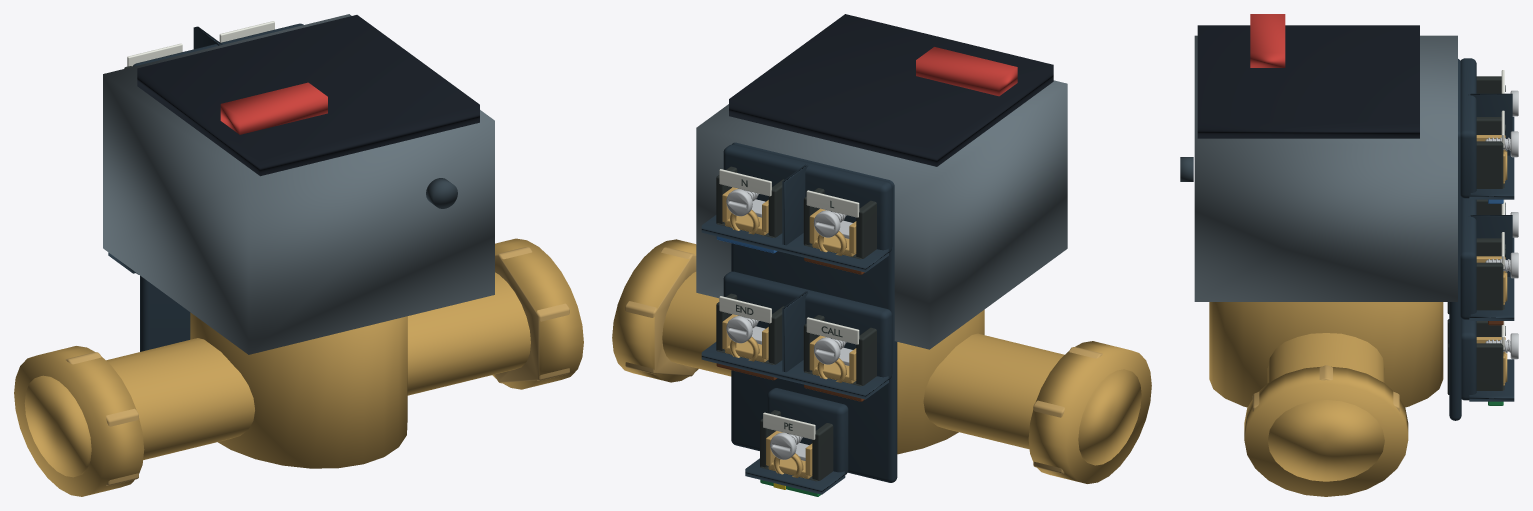
Rendered from valve_two-port.glb.
3 views of the same model, side by side, from view 1: azimuth 30°, elevation 25°; view 2: azimuth 150°, elevation 25°; view 3: azimuth 270°, elevation 25° (orthographic). The views are drawn at different scales.
Visible parts, largest first — view 1: part:actuator, part:body · Original df732090, part:terminals · Original a463fd81, motion:valve-pointer, detail:valve-end-switch · Detail machined brass, part:body.001; view 2: part:actuator, part:body · Original df732090, part:terminals · Original a463fd81, motion:valve-pointer, detail:valve-end-switch · Detail machined brass, detail:terminal-clamp:L · Detail moulded engineering polymer, detail:terminal-clamp:PE · Detail moulded engineering polyme, detail:terminal-clamp:CALL · Detail moulded engineering poly, detail:terminal-clamp:N · Detail moulded engineering polymer, detail:terminal-clamp:END · Detail moulded engineering polym, detail:terminal-clamp:CALL · Detail machined brass, detail:terminal-clamp:L · Detail machined brass (+13 smaller); view 3: part:actuator, part:body · Original df732090, part:terminals · Original a463fd81, motion:valve-pointer, detail:terminal-clamp:PE · Detail moulded engineering polyme, detail:terminal-clamp:END · Detail moulded engineering polym, detail:terminal-clamp:N · Detail moulded engineering polymer, detail:terminal-clamp:L · Detail moulded engineering polymer, detail:valve-end-switch · Detail machined brass, detail:terminal-clamp:N · Detail zinc plated fixing, detail:terminal-clamp:PE · Detail zinc plated fixing.
Part boxes in pixels (box(x1,y1,x2,y2)): part:actuator: box(103, 14, 494, 354); part:body · Original df732090: box(14, 238, 583, 496); part:terminals · Original a463fd81: box(108, 23, 303, 351); motion:valve-pointer: box(220, 82, 327, 134); detail:valve-end-switch · Detail machined brass: box(65, 247, 569, 485); part:body.001: box(426, 178, 457, 208); part:actuator: box(696, 14, 1067, 349); part:body · Original df732090: box(612, 239, 1151, 483); part:terminals · Original a463fd81: box(701, 142, 897, 494); motion:valve-pointer: box(916, 47, 1017, 96); detail:valve-end-switch · Detail machined brass: box(625, 247, 1102, 473); detail:terminal-clamp:L · Detail moulded engineering polymer: box(803, 188, 876, 259); detail:terminal-clamp:PE · Detail moulded engineering polyme: box(760, 410, 833, 481); detail:terminal-clamp:CALL · Detail moulded engineering poly: box(803, 315, 876, 386); detail:terminal-clamp:N · Detail moulded engineering polymer: box(716, 166, 784, 237); detail:terminal-clamp:END · Detail moulded engineering polym: box(716, 293, 784, 364); detail:terminal-clamp:CALL · Detail machined brass: box(809, 335, 856, 383); detail:terminal-clamp:L · Detail machined brass: box(809, 208, 856, 256); part:actuator: box(1194, 25, 1457, 301); part:body · Original df732090: box(1209, 302, 1443, 496); part:terminals · Original a463fd81: box(1449, 58, 1514, 420); motion:valve-pointer: box(1250, 14, 1285, 67); detail:terminal-clamp:PE · Detail moulded engineering polyme: box(1447, 319, 1504, 394); detail:terminal-clamp:END · Detail moulded engineering polym: box(1447, 238, 1504, 313); detail:terminal-clamp:N · Detail moulded engineering polymer: box(1476, 117, 1504, 188); detail:terminal-clamp:L · Detail moulded engineering polymer: box(1476, 76, 1501, 93); detail:valve-end-switch · Detail machined brass: box(1252, 365, 1399, 411); detail:terminal-clamp:N · Detail zinc plated fixing: box(1485, 131, 1518, 157); detail:terminal-clamp:PE · Detail zinc plated fixing: box(1485, 333, 1518, 359).
Bounding box in the file's own units: 1.02 × 0.741 × 0.6802.
